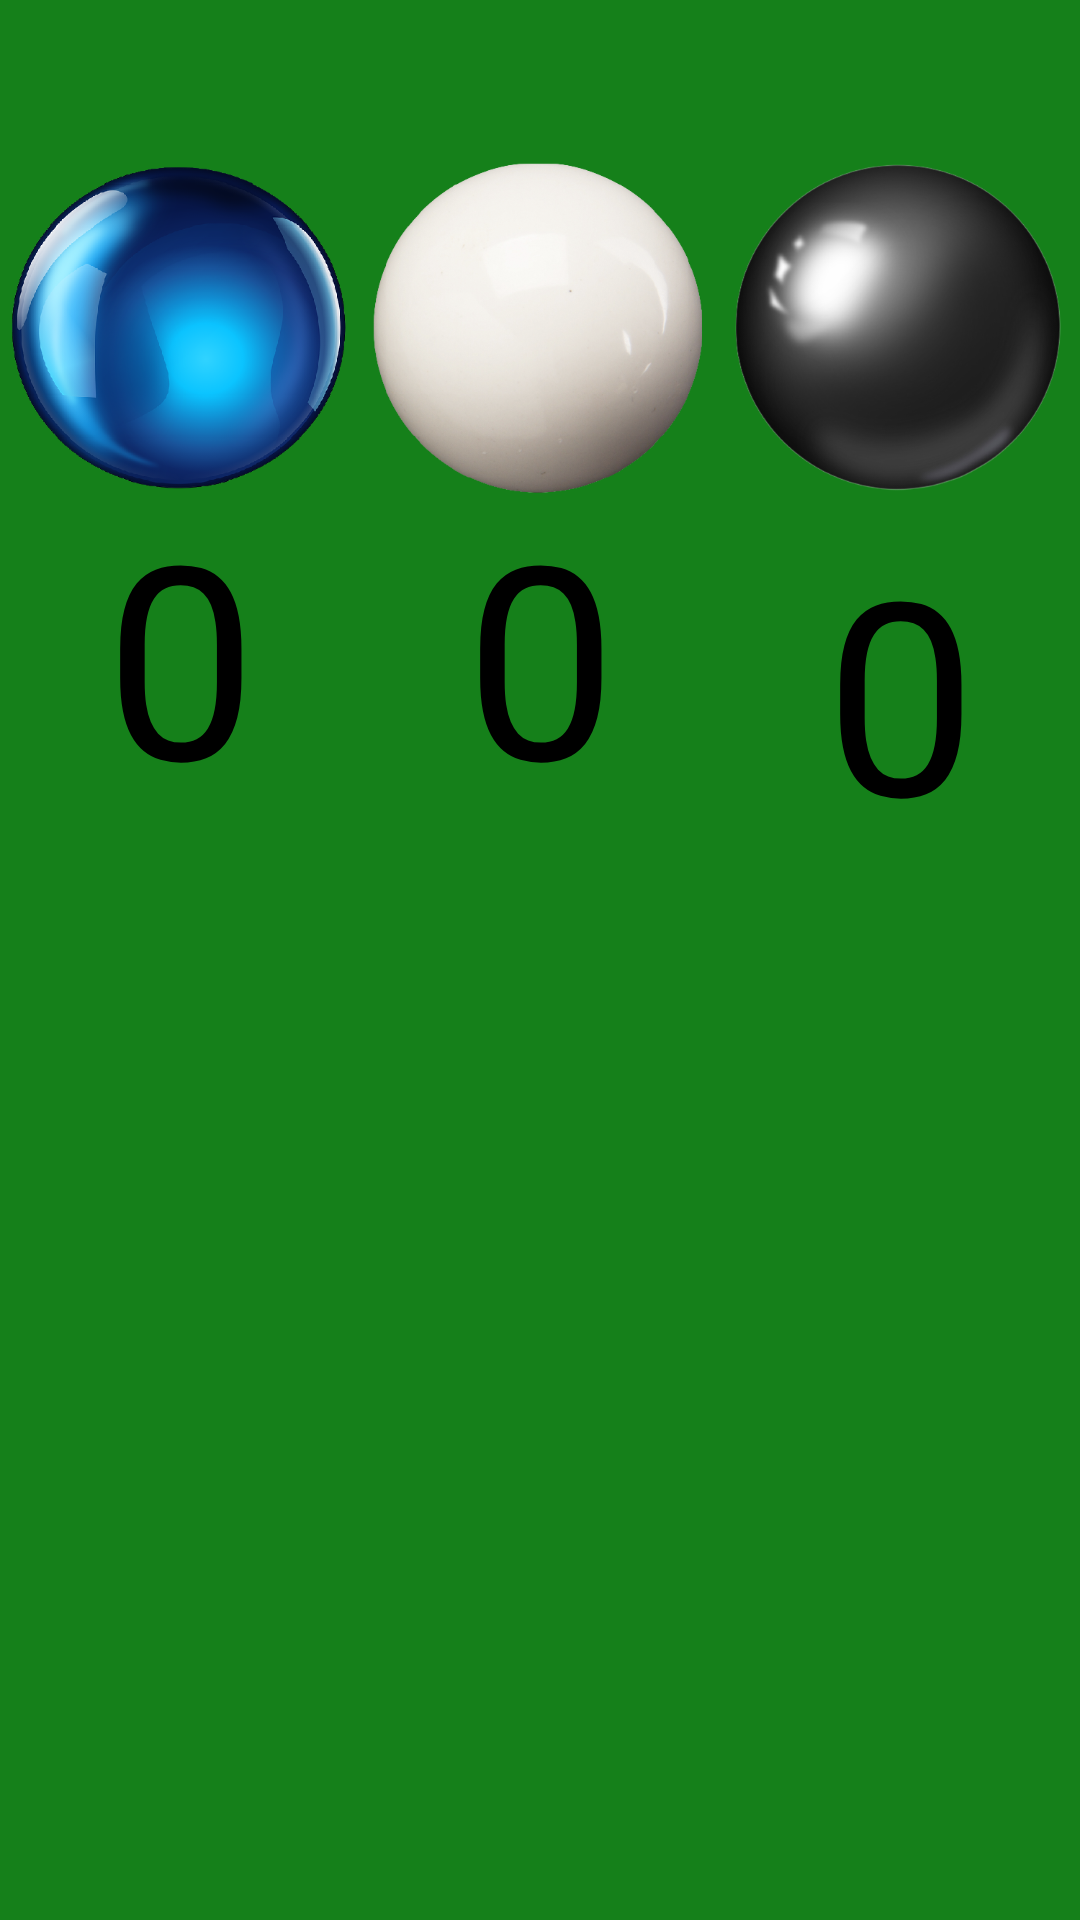

Icon click points for this 1080px x 1920px phone screenshot, format (x,y):
bola azul: (179,328)
bola branca: (537,328)
bola preta: (898,327)
